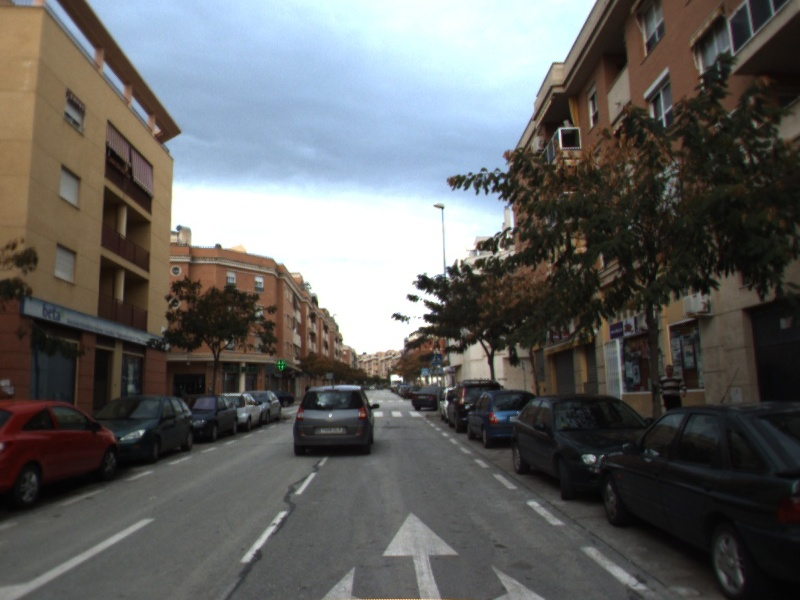STRAIGHT_LEFT_RIGHT: (317, 510, 551, 600)
